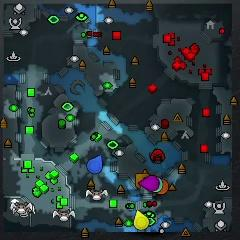p1: (87, 155, 103, 174)
p2: (152, 177, 162, 192)
p3: (139, 176, 158, 191)
p4: (134, 210, 148, 229)
p5: (159, 178, 169, 195)
x5: (135, 173, 149, 188)
